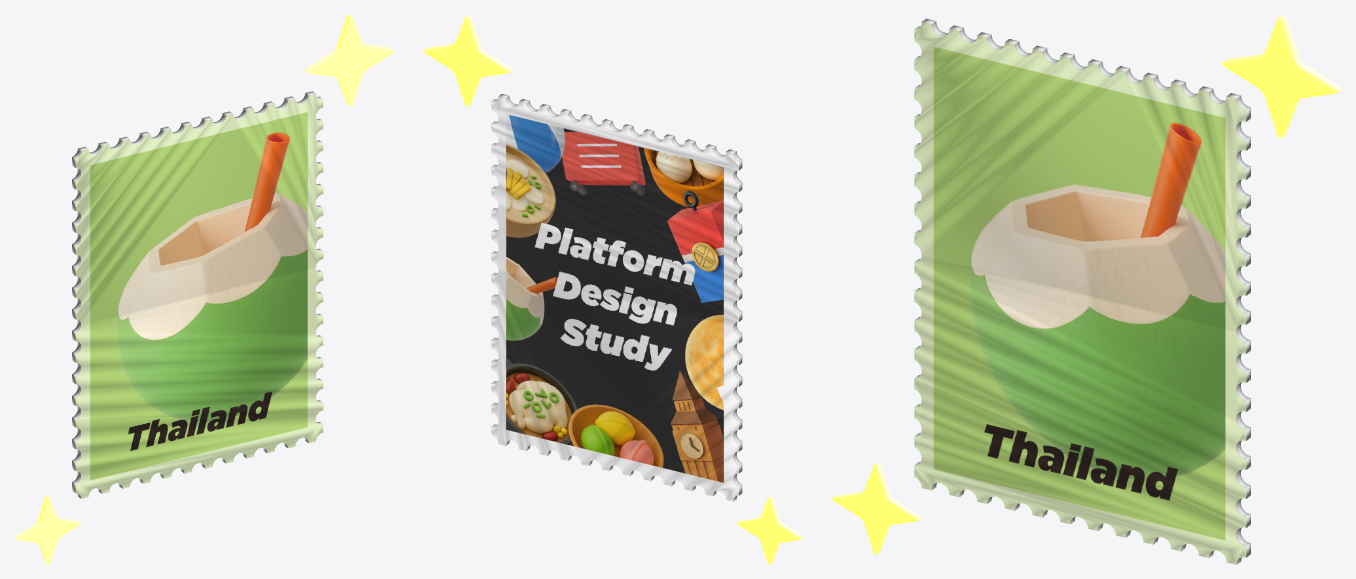
Rendered from event.glb.
3 views of the same model, side by side, from view 1: azimuth 30°, elevation 25°; view 2: azimuth 150°, elevation 25°; view 3: azimuth 330°, elevation 25° (orthographic). The views are drawn at different scales.
Visible parts, largest first — view 1: Cube.002, Cylinder.001, Cylinder.002; view 2: Cube.002, Cylinder.001, Cylinder.002; view 3: Cube.002, Cylinder.001, Cylinder.002.
Boxes of the visible parts, box(x1,y1,x2,y2) form: Cube.002: box(72, 91, 323, 498); Cylinder.001: box(305, 14, 394, 106); Cylinder.002: box(14, 495, 81, 564); Cube.002: box(491, 94, 742, 501); Cylinder.001: box(423, 14, 512, 106); Cylinder.002: box(736, 495, 803, 564); Cube.002: box(914, 18, 1250, 564); Cylinder.001: box(1221, 14, 1341, 138); Cylinder.002: box(832, 462, 921, 554).
Size of the model in its own units: 3.05 by 3.67 by 0.0741.
Materials: 4 (2 with a texture image).
